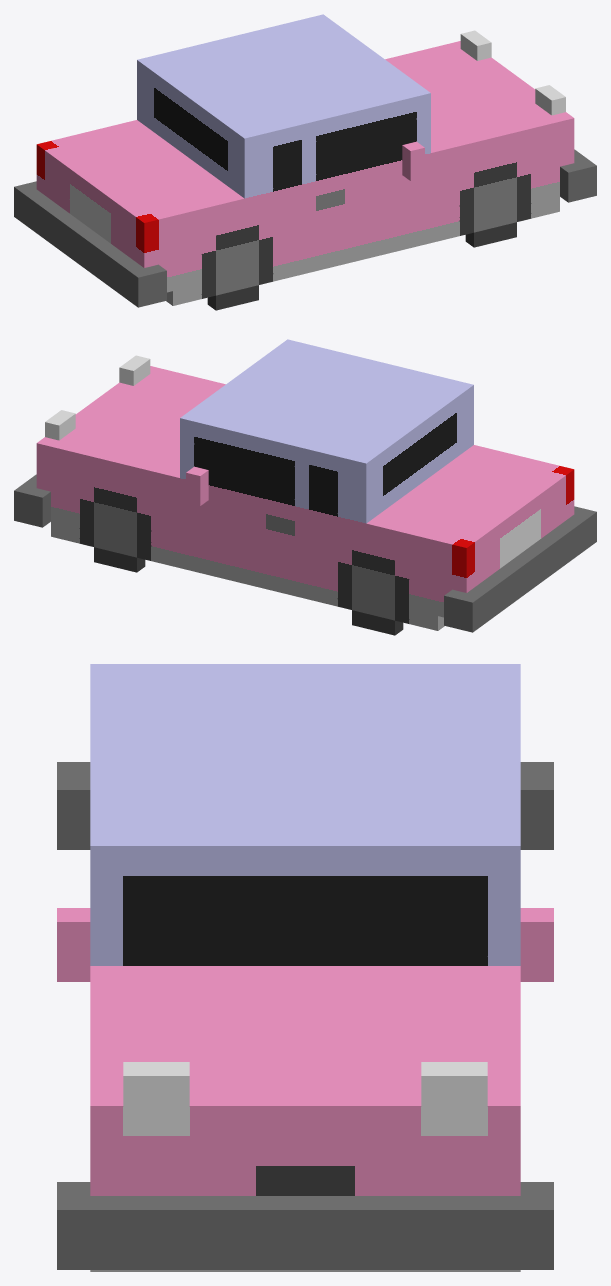
Rendered from veh_car2.fbx.
3 views of the same model, one above another, from view 1: azimuth 30°, elevation 25°; view 2: azimuth 150°, elevation 25°; view 3: azimuth 270°, elevation 25° (orthographic). The views are drawn at different scales.
Visible parts, largest first — view 1: veh_car2; view 2: veh_car2; view 3: veh_car2.
Boxes of the visible parts, <box> form: veh_car2: <box>14,14,596,310</box>; veh_car2: <box>14,339,596,635</box>; veh_car2: <box>57,664,553,1271</box>.
Bounding box in the file's own units: 3.2 × 1.5 × 1.1.
1 material, 1 textured.
